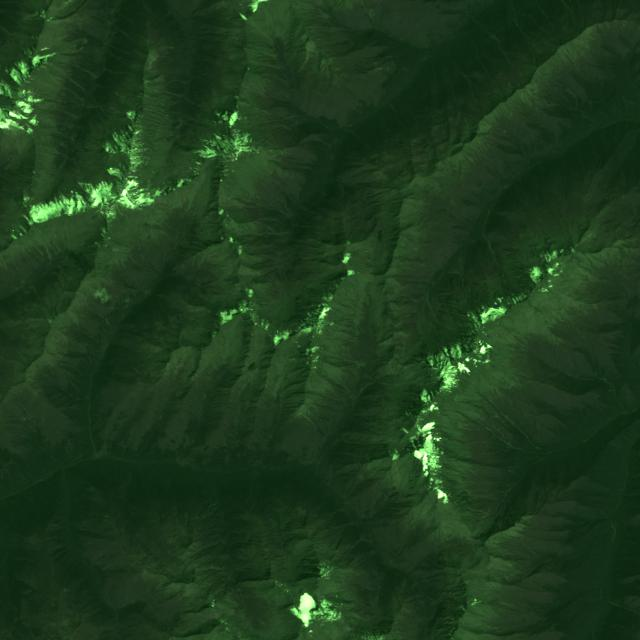landslides: (42, 60, 85, 92), (25, 98, 81, 119), (50, 55, 97, 79), (0, 25, 36, 53), (106, 49, 141, 72), (32, 224, 52, 262), (116, 26, 147, 50), (109, 45, 146, 63), (102, 65, 142, 80), (319, 535, 343, 559), (115, 10, 140, 31), (567, 88, 578, 108)
